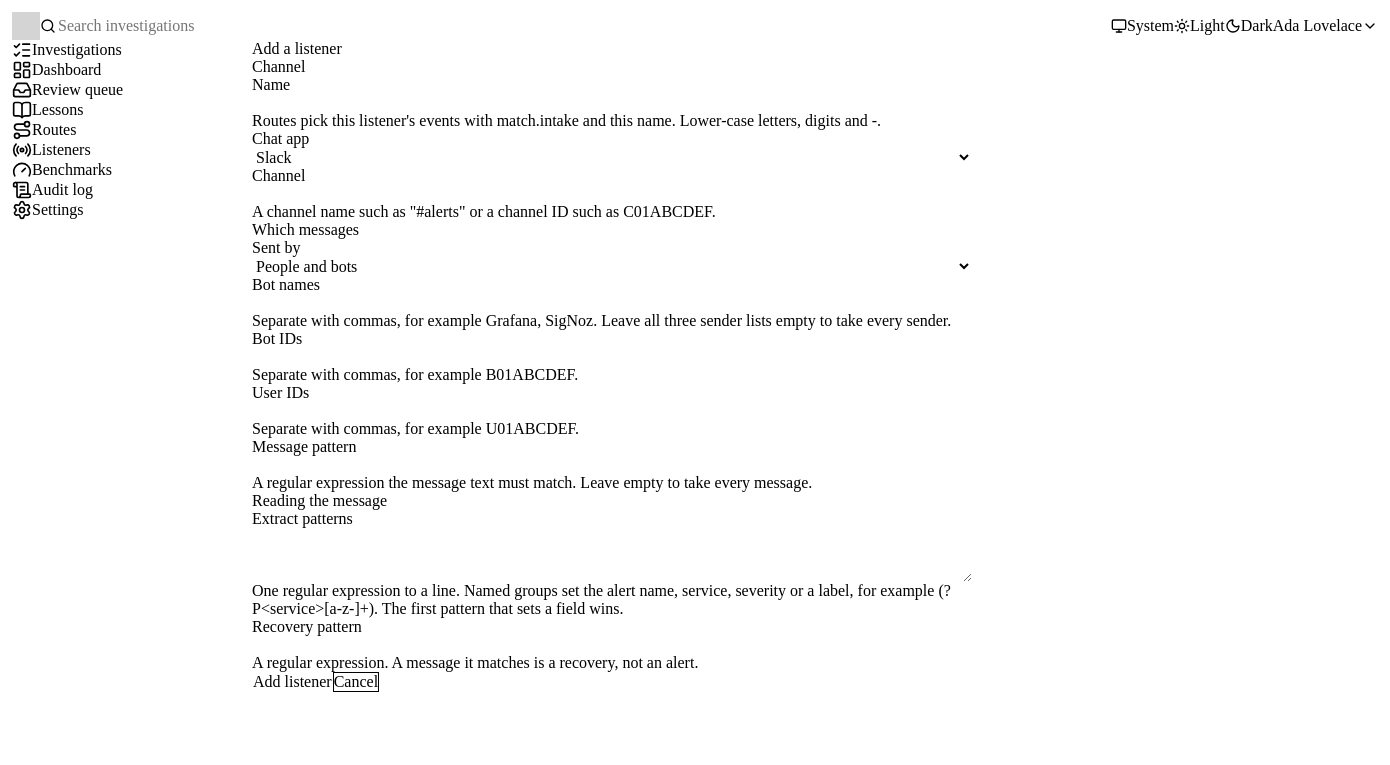
it: the listener form › shows each problem the server found under its field, and the others at the top
Step 1. Type "billing" into the field labelled "Name" → point(612, 103), box x1=252 y1=94 x2=972 y2=112
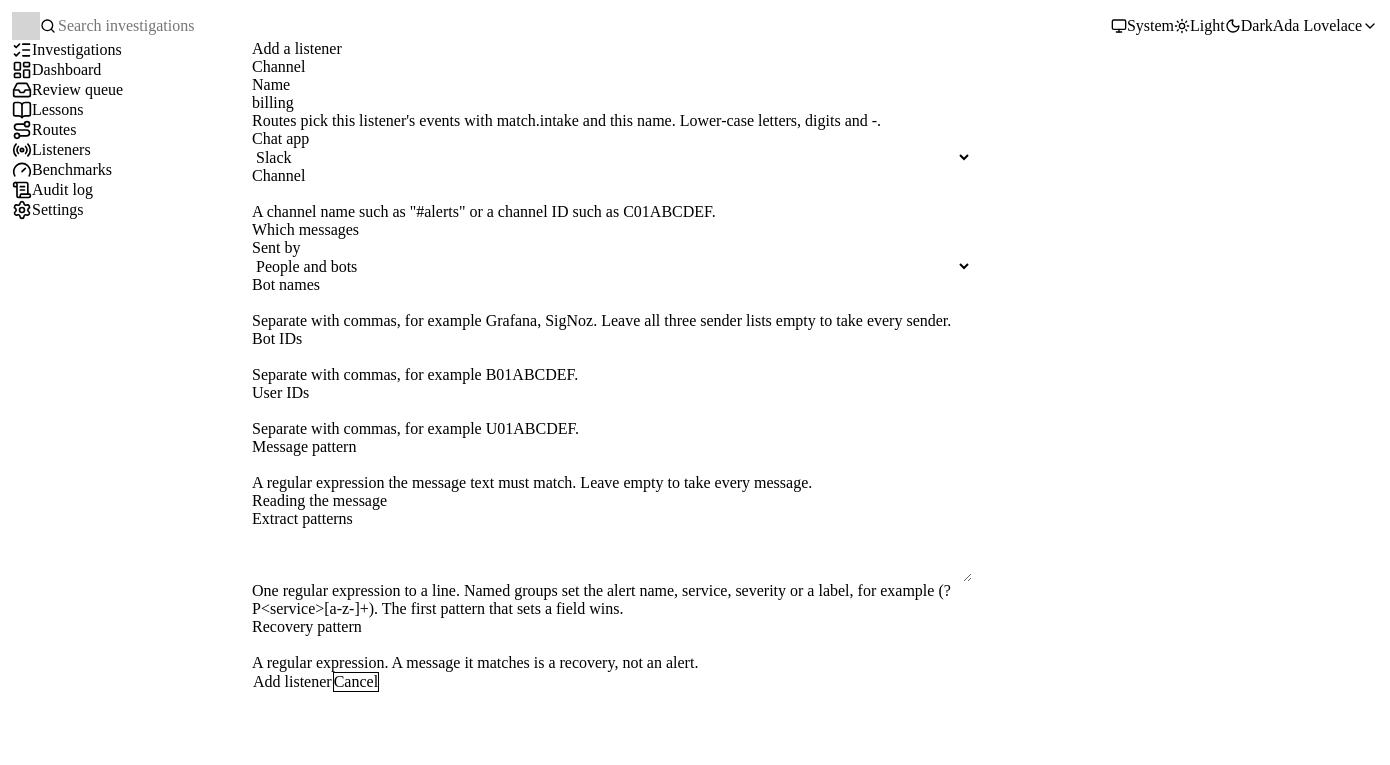
Step 2. Type "#billing" into the field labelled "Channel" → point(612, 194), box x1=252 y1=185 x2=972 y2=203
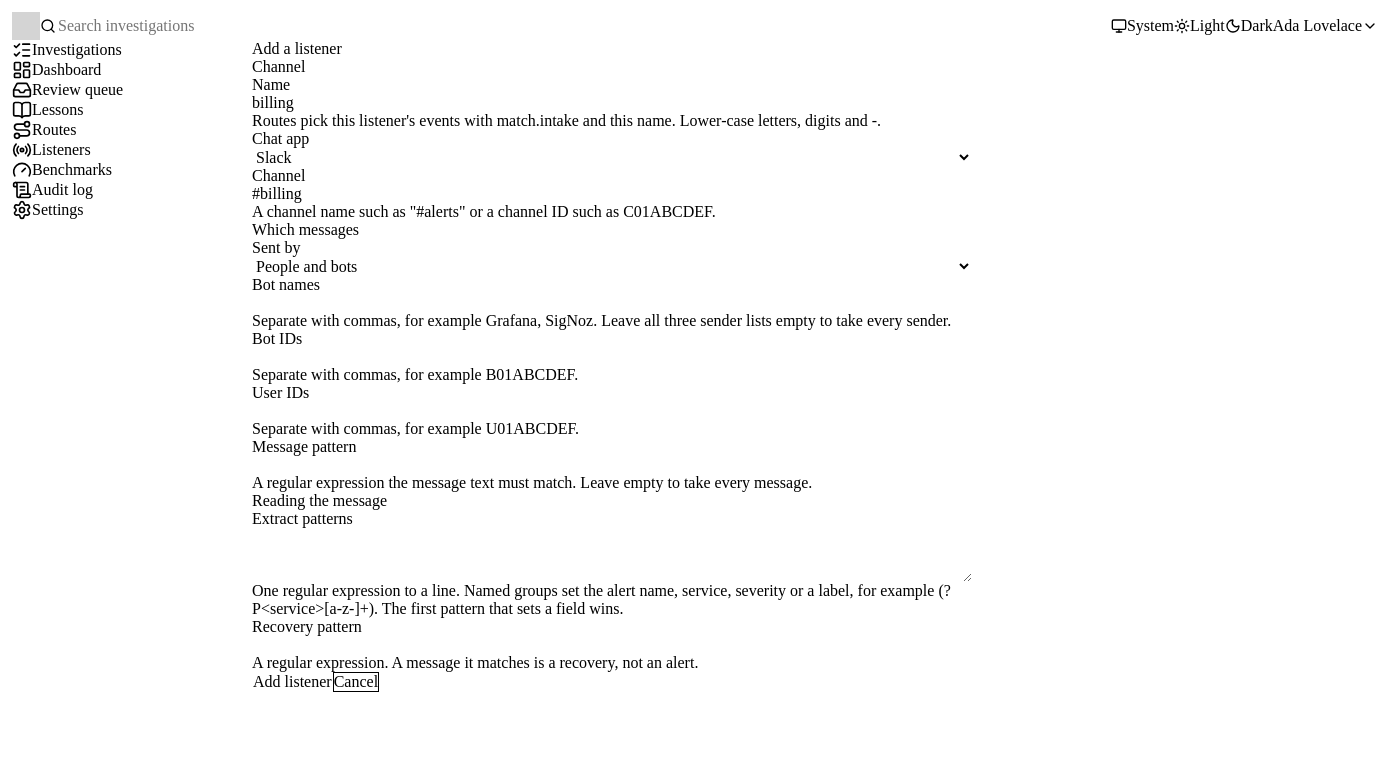
Step 3. Click the button "Add listener" → point(292, 682), box x1=252 y1=672 x2=333 y2=692
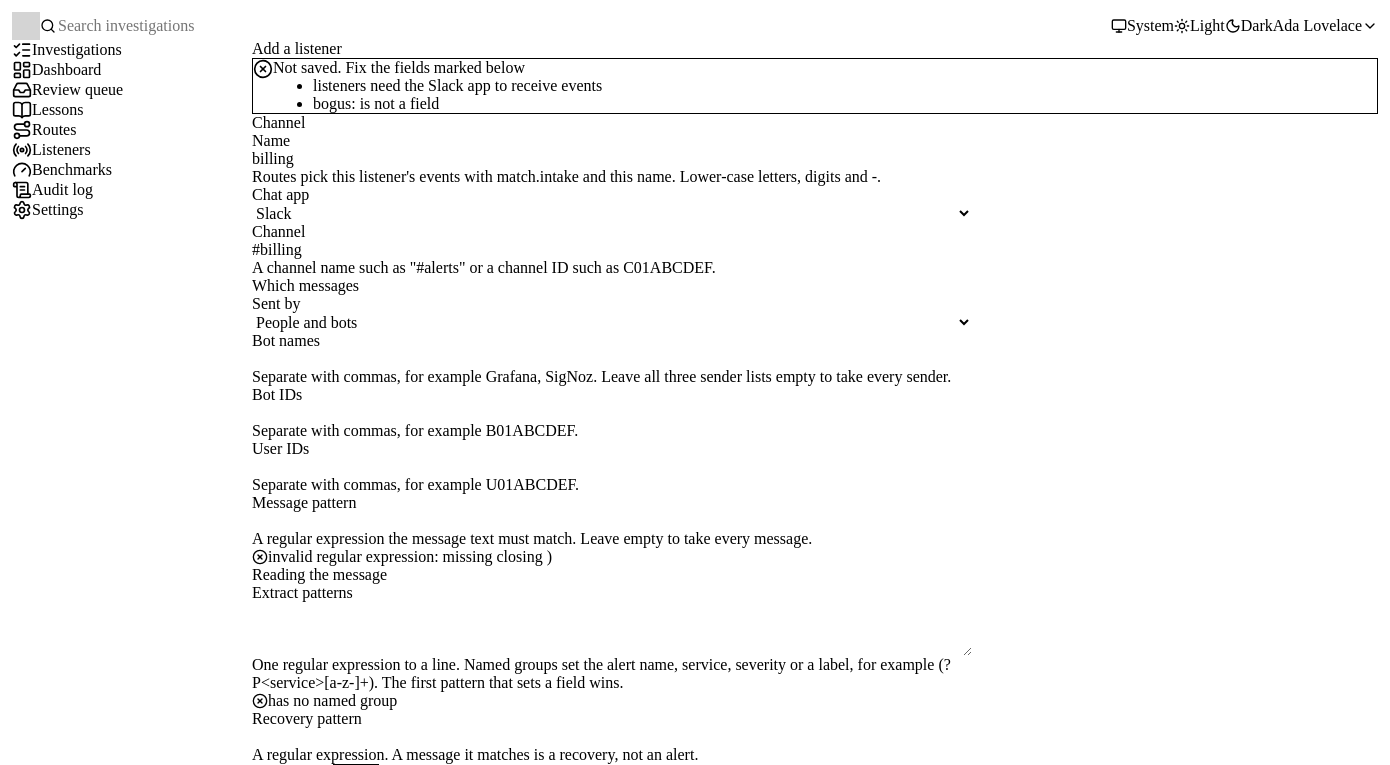
Expected: the message shows "listeners need the Slack app to receive events", x1=313 y1=77 x2=602 y2=94
Expected: the message shows "bogus: is not a field", x1=313 y1=95 x2=439 y2=112
